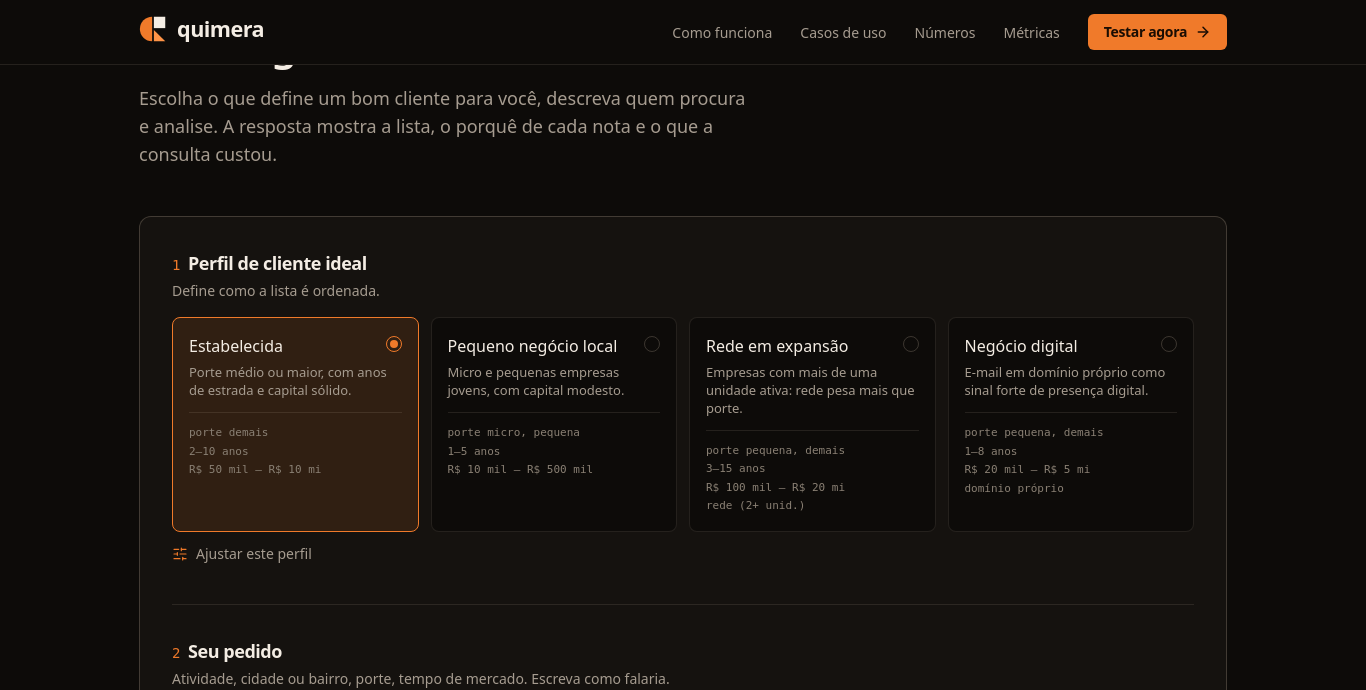
Scenario: Home — fluxo de busca › envia o perfil de ICP escolhido e mostra com qual ranqueou
The width and height of the screenshot is (1366, 690).
(page scrolled)
Click the radio button labelled "Pequeno negócio local". click: click(554, 425)
box: [430,317,677,532]
(page scrolled)
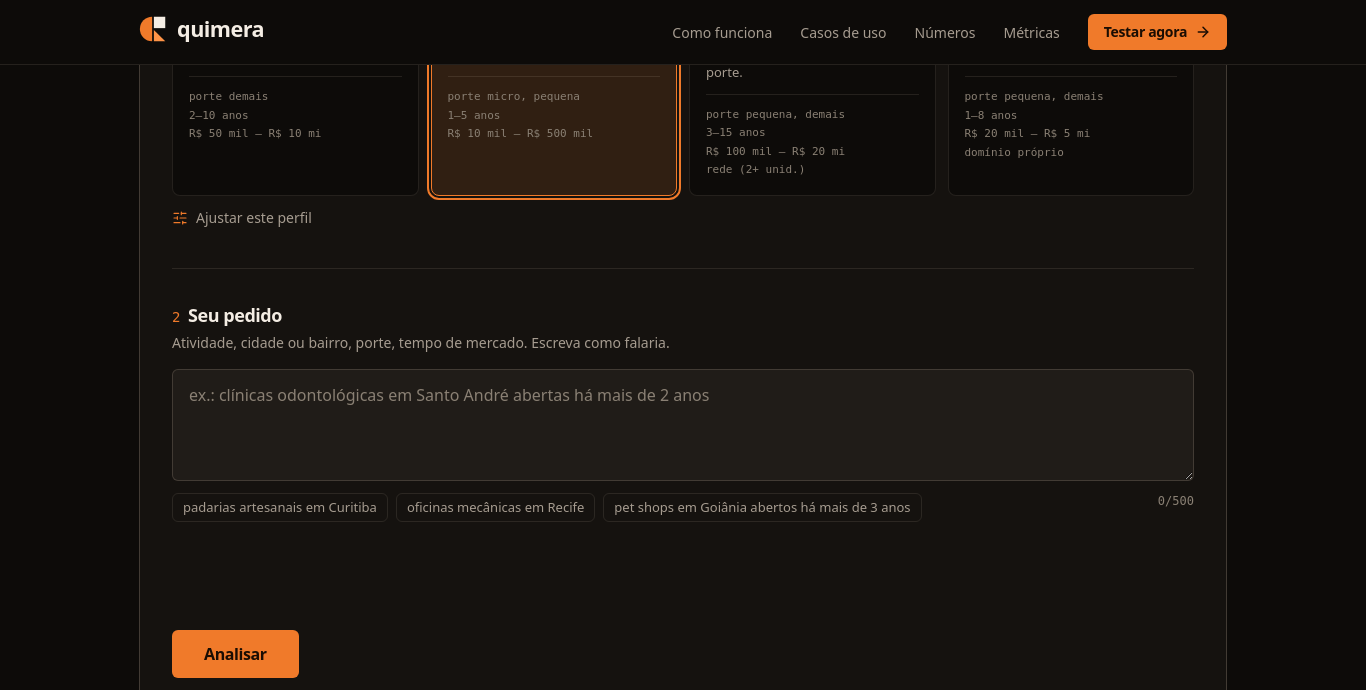
Type "padarias artesanais" into the text box labelled "2Seu pedido". click: (683, 425)
box: [172,369,1194,481]
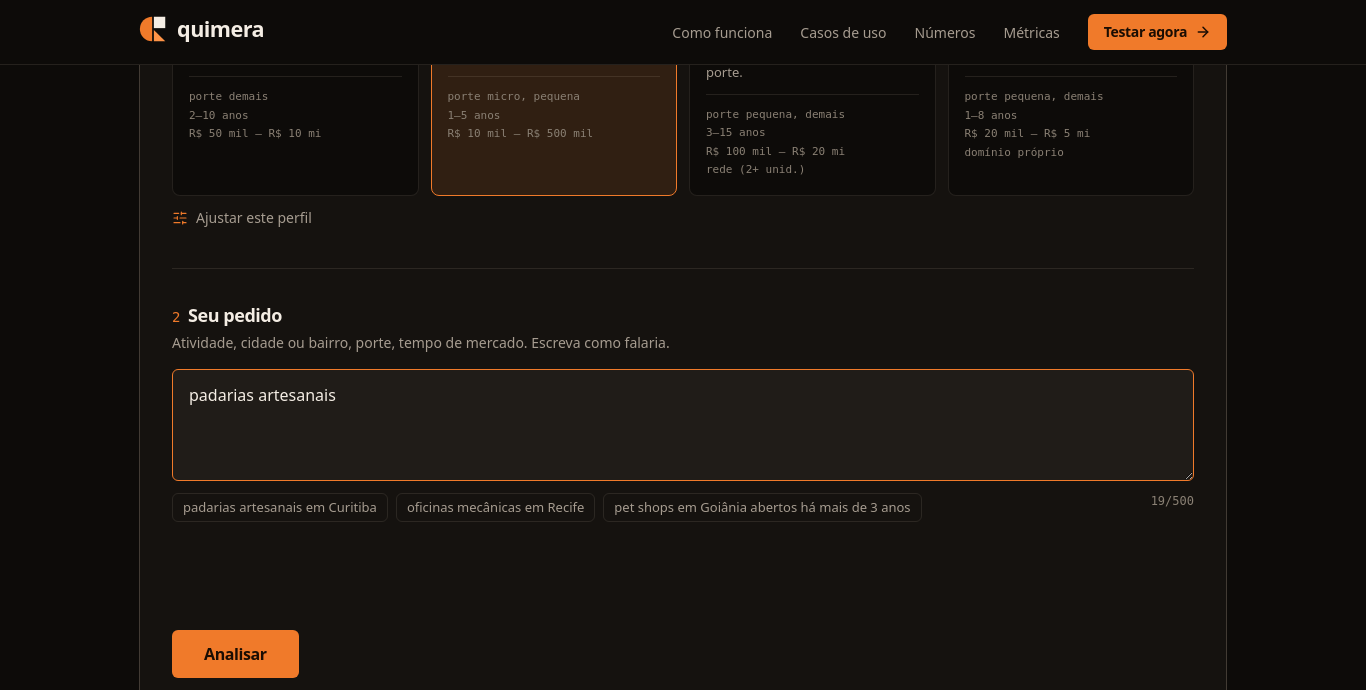
Click the button "Analisar". click: click(235, 654)
box: [172,630,299,678]
(page scrolled)
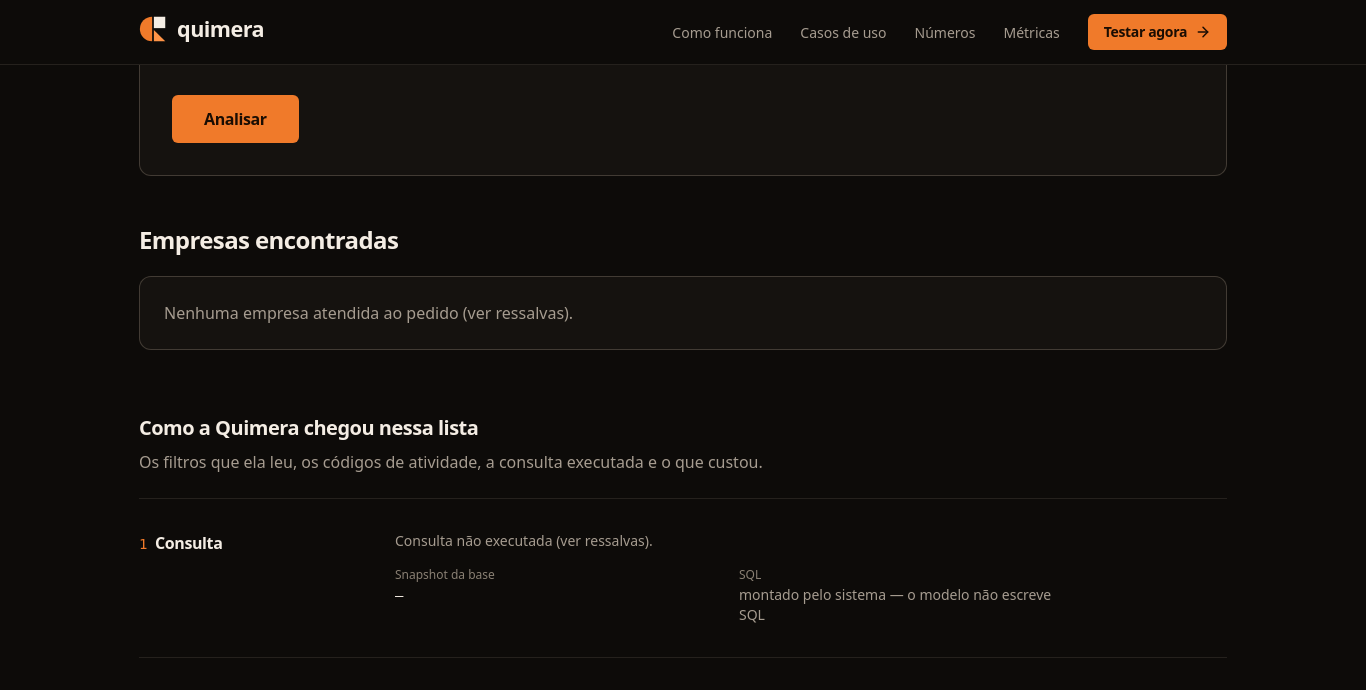
Now the text "Nenhuma empresa atendida ao pedido (ver ressalvas)." is shown, box [164,302,573,324]
